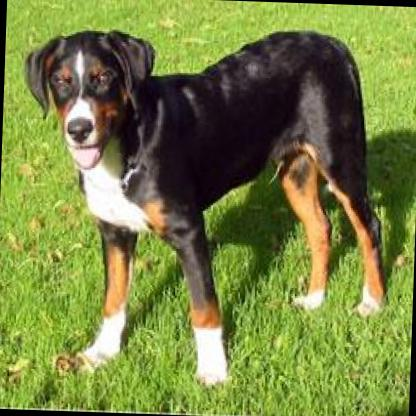Appenzeller: (6, 16, 392, 390)
